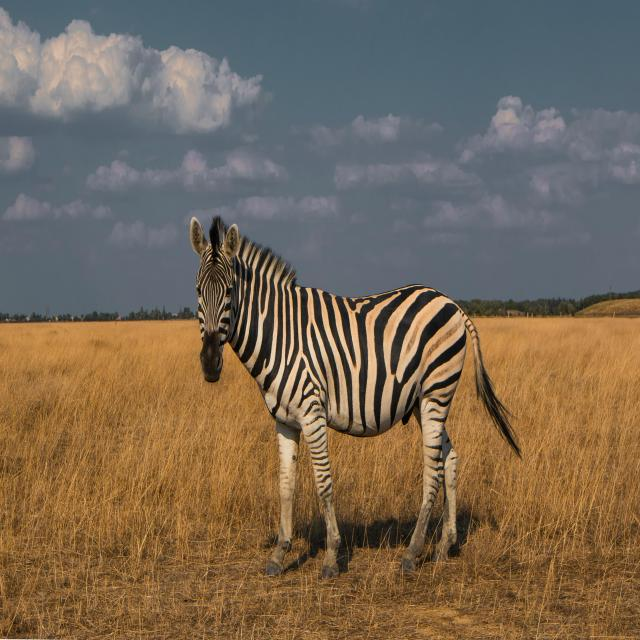Zebra: (190, 215, 524, 576)
